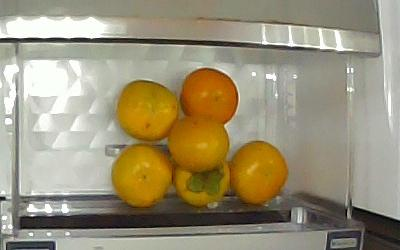persimmon: (117, 80, 178, 144), (111, 145, 172, 207), (232, 140, 290, 205), (179, 68, 240, 128), (167, 117, 229, 172), (174, 158, 232, 207)
